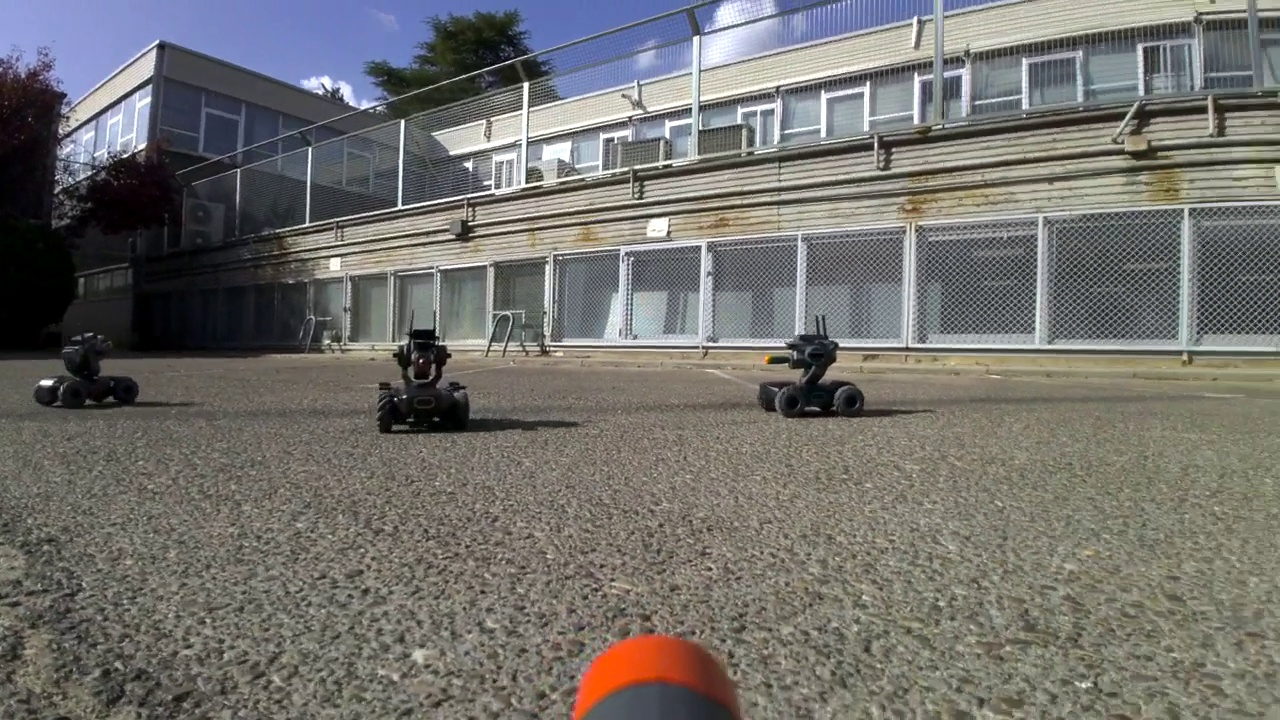robot: (376, 305, 471, 430), (759, 316, 865, 417), (35, 326, 140, 407)
